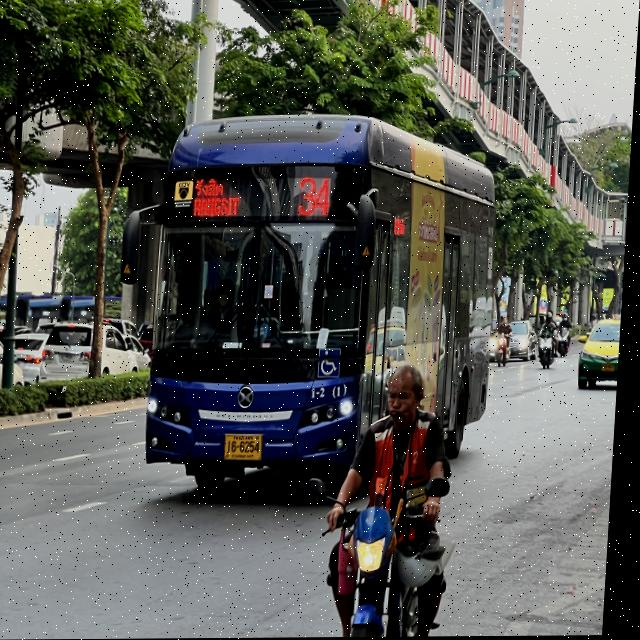Bus Line Number: (296, 173, 338, 221)
Bus Side Number: (310, 382, 354, 400)
Destination Sign: (191, 173, 248, 222)
TSB-Bus: (138, 103, 509, 488)
